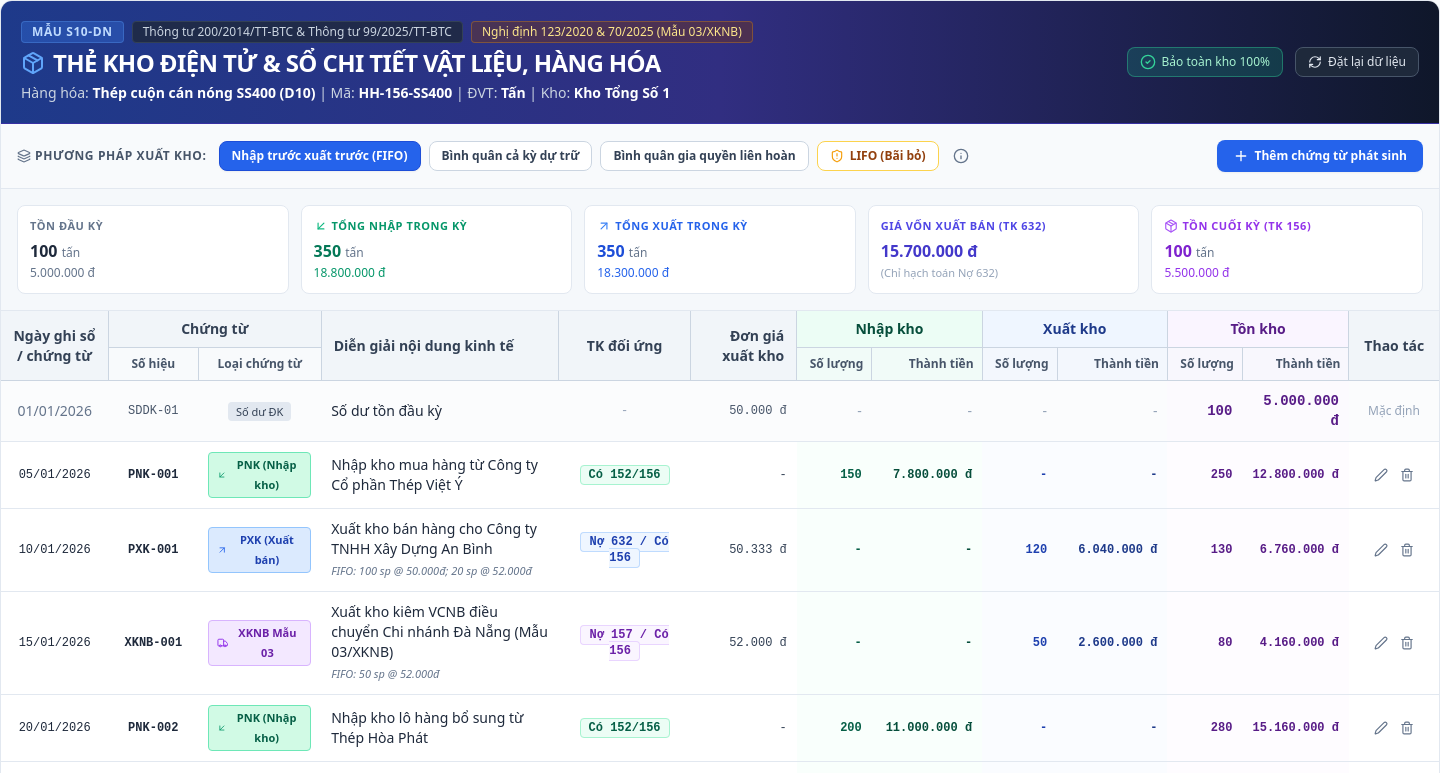
Interactive Digital Stock Card Simulator (StockCardSimulator.tsx) › T2.7: Deleting row updates balance and restores downstream lot availability
This screenshot has width=1440, height=773.
Expected: the element with test id "kpi-total-out-qty" shows "350", [597,240,625,262]
Expected: the element with test id "kpi-ending-qty" shows "100", [1164,240,1192,262]
Click the button with test id "delete-btn-tx-2": (1407, 550) [1396,539,1418,561]
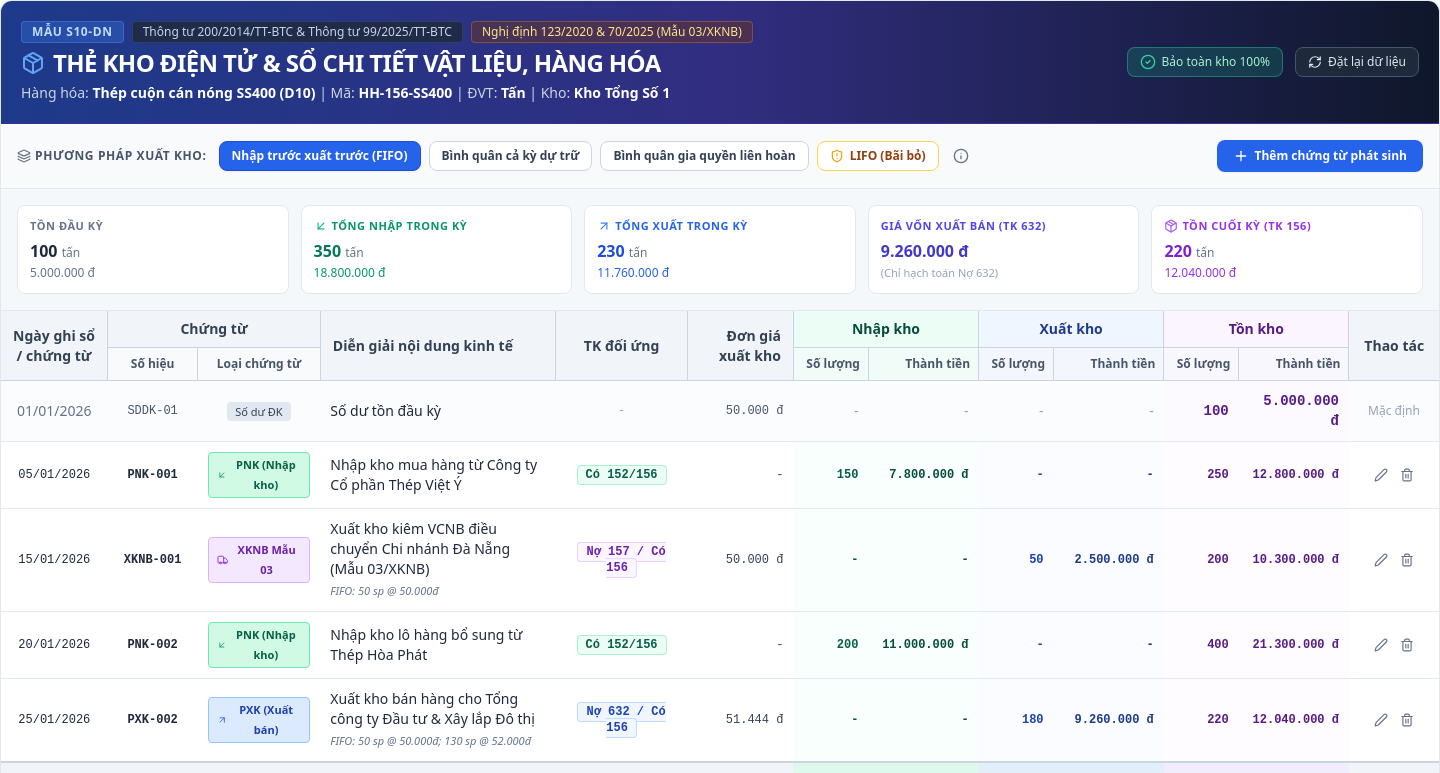
Expected: the text "PXK-001" is gone
Expected: the element with test id "kpi-total-out-qty" shows "230", [597,240,625,262]
Expected: the element with test id "kpi-ending-qty" shows "220", [1164,240,1192,262]
